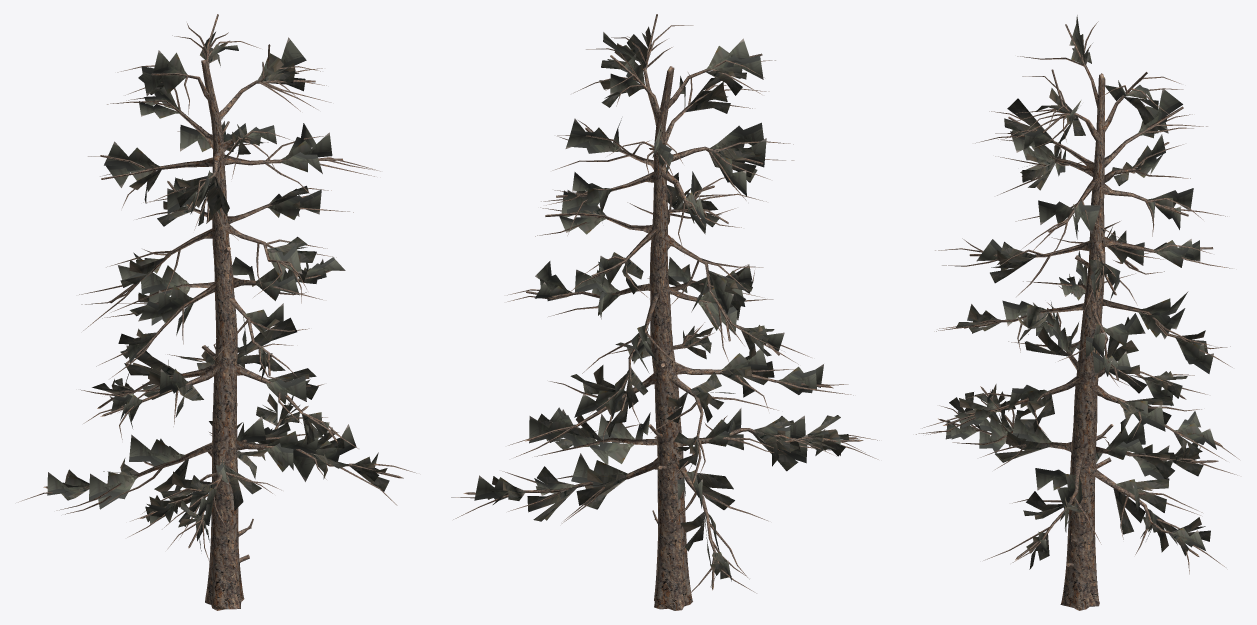
Rendered from Tree_06.fbx.
The picture shows the model from 3 angles, left to right: view 1: azimuth 30°, elevation 25°; view 2: azimuth 150°, elevation 25°; view 3: azimuth 270°, elevation 25°; orthographic projection. The views are drawn at different scales.
Parts seen in each view (by area): view 1: LOD0; view 2: LOD0; view 3: LOD0.
Part boxes in pixels (x1,y1,x2,y2): LOD0: (18,14,416,610); LOD0: (451,14,879,610); LOD0: (916,15,1239,610).
Bounding box in the file's own units: 728 × 1221 × 658.
